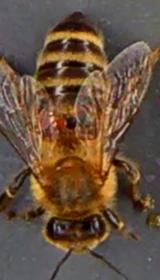varroa_mite: (52, 111, 72, 132)
